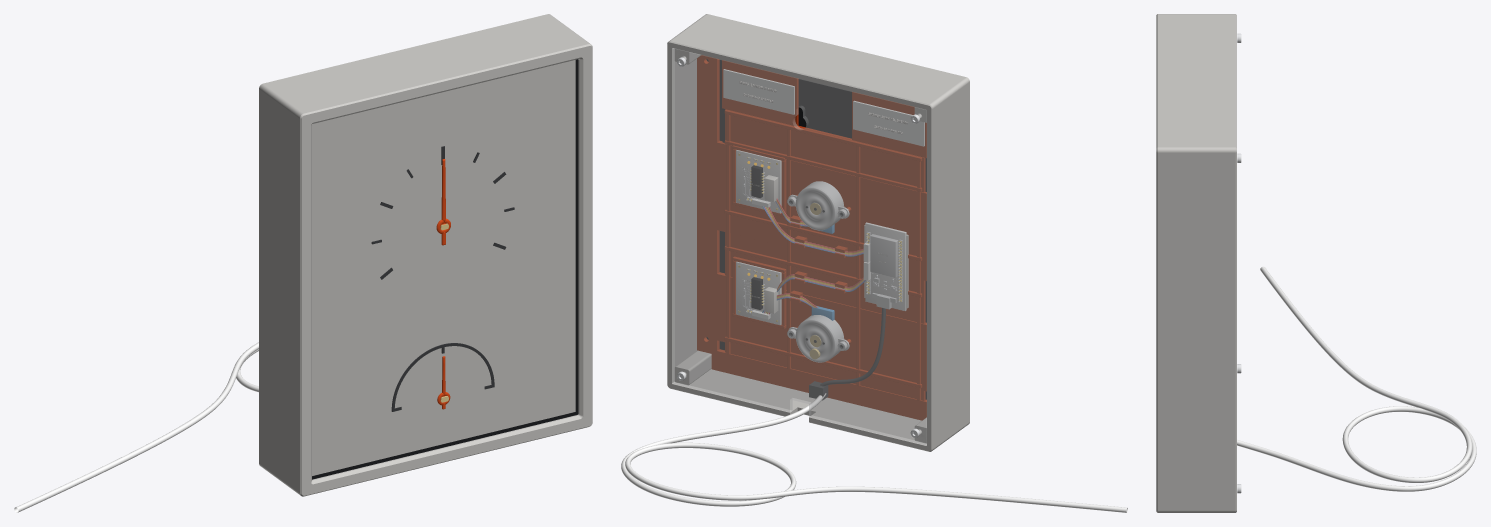
Rendered from surf_clock_v9_master.glb.
3 views of the same model, side by side, from view 1: azimuth 30°, elevation 25°; view 2: azimuth 150°, elevation 25°; view 3: azimuth 270°, elevation 25° (orthographic). The views are drawn at different scales.
Visible parts, largest first — view 1: SurfClock_Master_60fps_Rig_dial_v2_flush, SurfClock_Master_60fps_Rig_bezel, Dial_Shadow_Moat_Backer, Coiled_Tabletop_USBC_Cord, Static_Dial_Ticks_And_Arch; view 2: Duo_Rear_SurfClock_Master_60fps_Rig_RearCover, SurfClock_Master_60fps_Rig_bezel, Duo_Rear_SurfClock_Master_60fps_Rig_carrier, Duo_Rear_Ribbed_Engineering_Deck, Coiled_Tabletop_USBC_Cord, Duo_Rear_Data_Plaques, Dial_Shadow_Moat_Backer, Duo_Rear_SurfClock_Master_60fps_Rig_ULN_Bot, Duo_Rear_SurfClock_Master_60fps_Rig_ULN_Top, Duo_Rear_SurfClock_Master_60fps_Rig_ESP32_S3, Duo_Rear_Stepper_Stamped_Rings, Duo_Rear_Stepper_Stamped_Ring_Low (+4 smaller); view 3: SurfClock_Master_60fps_Rig_bezel, Coiled_Tabletop_USBC_Cord.
Part boxes in pixels (x1=…): SurfClock_Master_60fps_Rig_dial_v2_flush: x1=312, y1=60, x2=575, y2=475; SurfClock_Master_60fps_Rig_bezel: x1=259, y1=14, x2=592, y2=496; Dial_Shadow_Moat_Backer: x1=312, y1=59, x2=578, y2=479; Coiled_Tabletop_USBC_Cord: x1=14, y1=342, x2=258, y2=512; Static_Dial_Ticks_And_Arch: x1=371, y1=146, x2=514, y2=411; Duo_Rear_SurfClock_Master_60fps_Rig_RearCover: x1=672, y1=48, x2=926, y2=445; SurfClock_Master_60fps_Rig_bezel: x1=667, y1=14, x2=969, y2=451; Duo_Rear_SurfClock_Master_60fps_Rig_carrier: x1=697, y1=55, x2=926, y2=420; Duo_Rear_Ribbed_Engineering_Deck: x1=722, y1=60, x2=926, y2=400; Coiled_Tabletop_USBC_Cord: x1=621, y1=393, x2=1127, y2=512; Duo_Rear_Data_Plaques: x1=723, y1=69, x2=924, y2=146; Dial_Shadow_Moat_Backer: x1=706, y1=59, x2=926, y2=399; Duo_Rear_SurfClock_Master_60fps_Rig_ULN_Bot: x1=736, y1=262, x2=781, y2=325; Duo_Rear_SurfClock_Master_60fps_Rig_ULN_Top: x1=736, y1=150, x2=781, y2=213; Duo_Rear_SurfClock_Master_60fps_Rig_ESP32_S3: x1=865, y1=222, x2=906, y2=310; Duo_Rear_Stepper_Stamped_Rings: x1=795, y1=187, x2=836, y2=230; Duo_Rear_Stepper_Stamped_Ring_Low: x1=795, y1=319, x2=836, y2=362; SurfClock_Master_60fps_Rig_bezel: x1=1156, y1=14, x2=1236, y2=512; Coiled_Tabletop_USBC_Cord: x1=1237, y1=266, x2=1476, y2=491.
Bounding box in the file's own units: 328 × 230 × 183.
